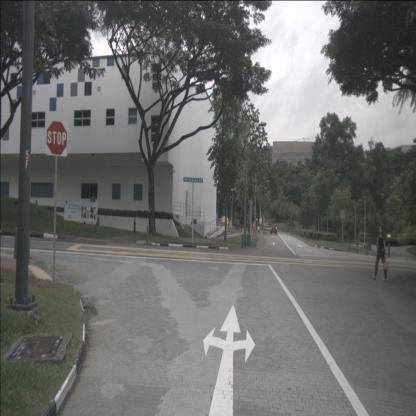cone: (260, 230, 262, 237)
